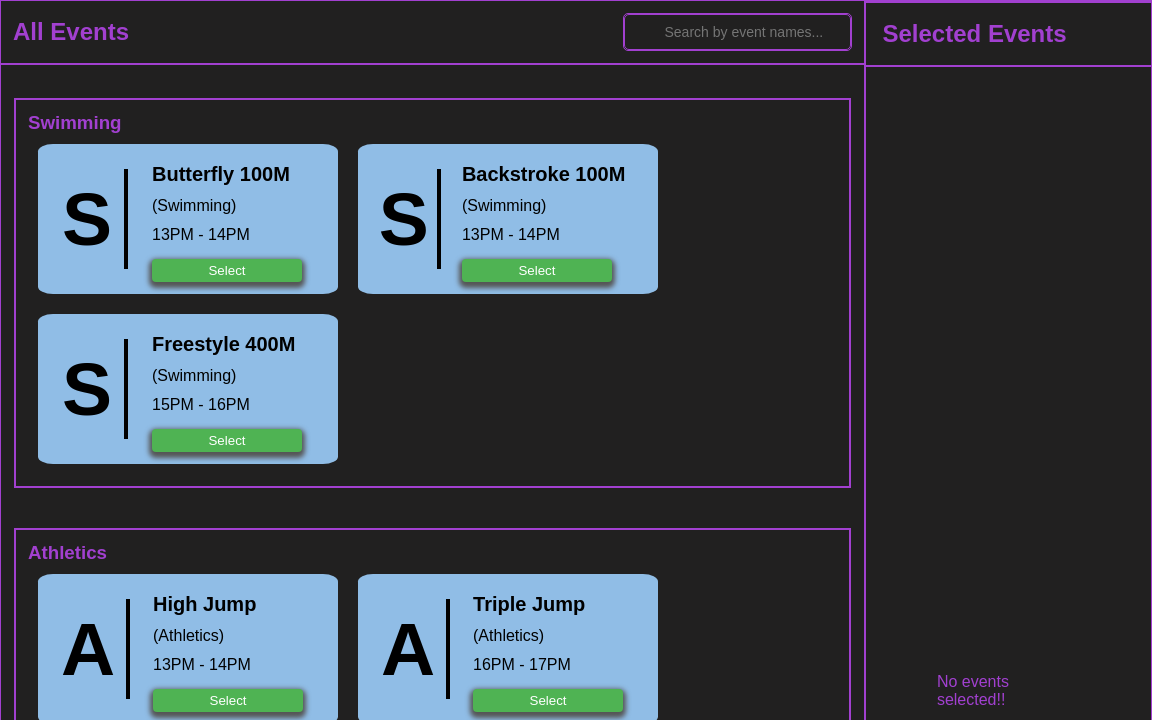
Test: Sports Events Dashboard › Should test if search works correctly
Type "Weight" into the search field with test id "searchBar".
click(738, 32); type("Weight")  # box top-left (624, 14), bottom-right (851, 50)
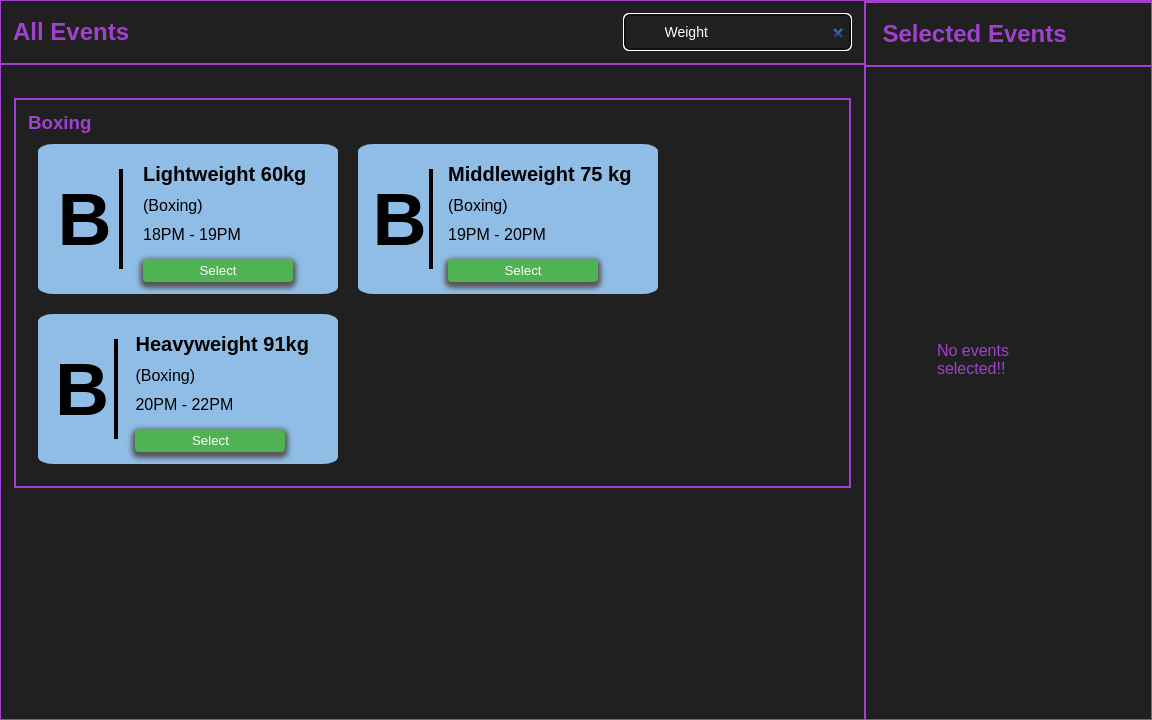
Replace the text in the search field with test id "searchBar" with "   Weight   " at (738, 32), box top-left (624, 14), bottom-right (851, 50)
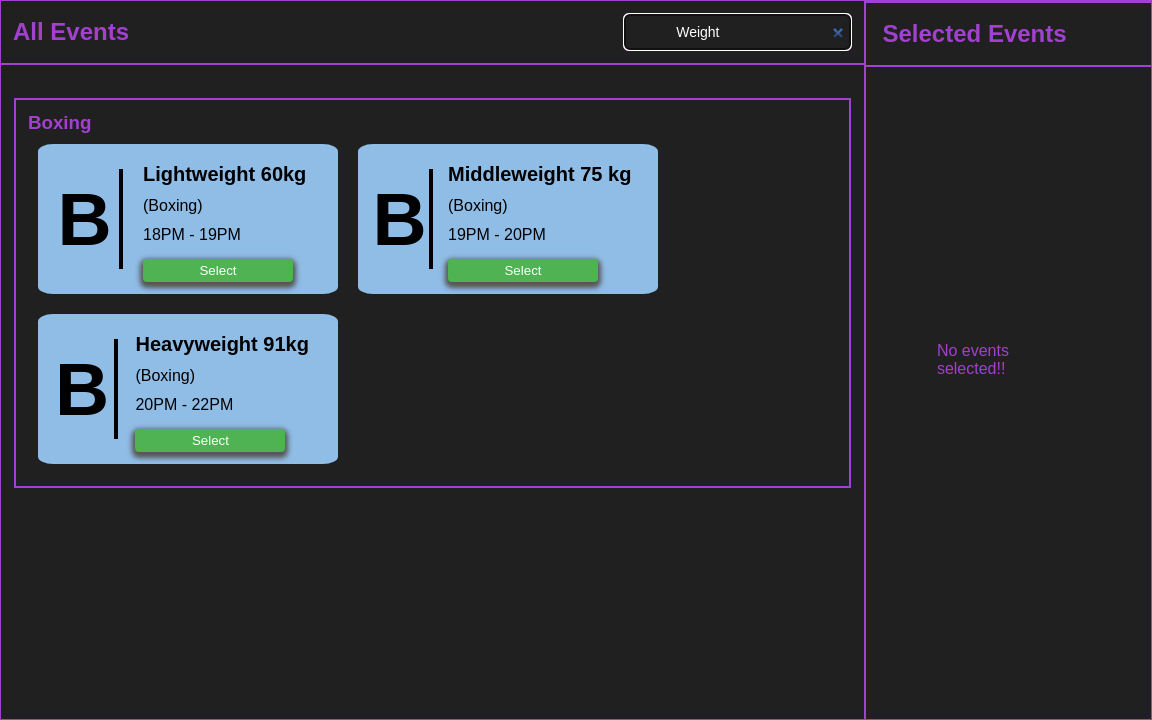
Replace the text in the search field with test id "searchBar" with "Lorem Ipsum" at (738, 32), box top-left (624, 14), bottom-right (851, 50)
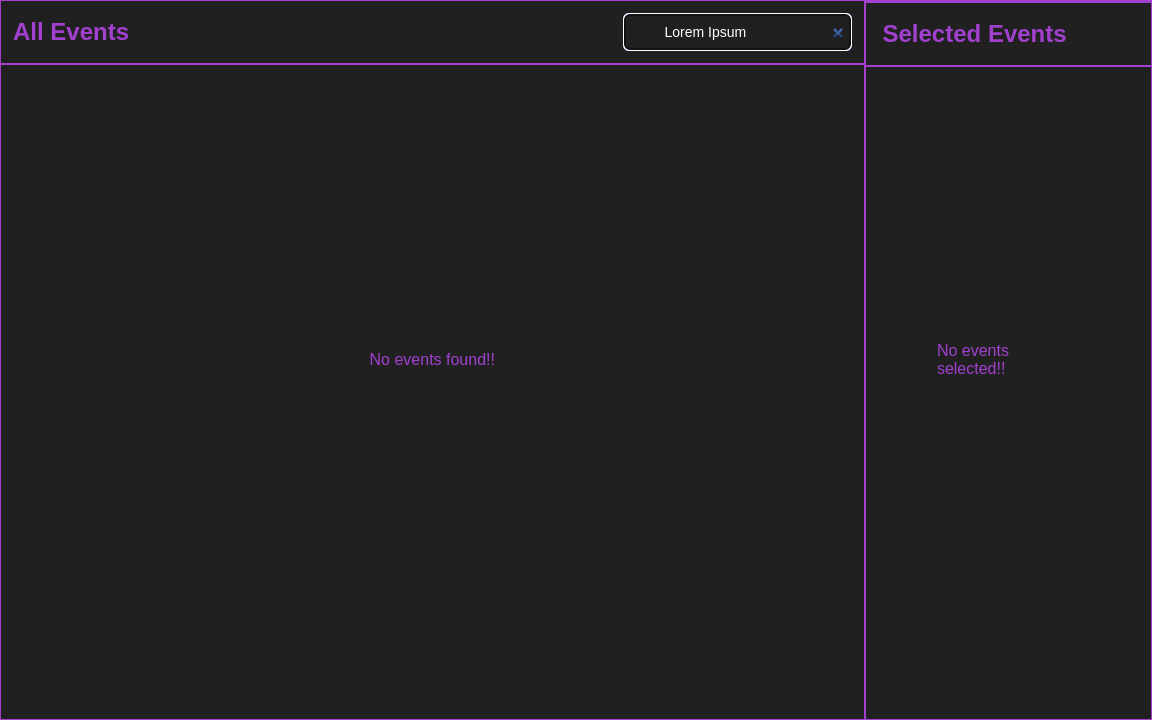
Result: the text "No events found!!" is shown at top-left (370, 351), bottom-right (495, 369)
